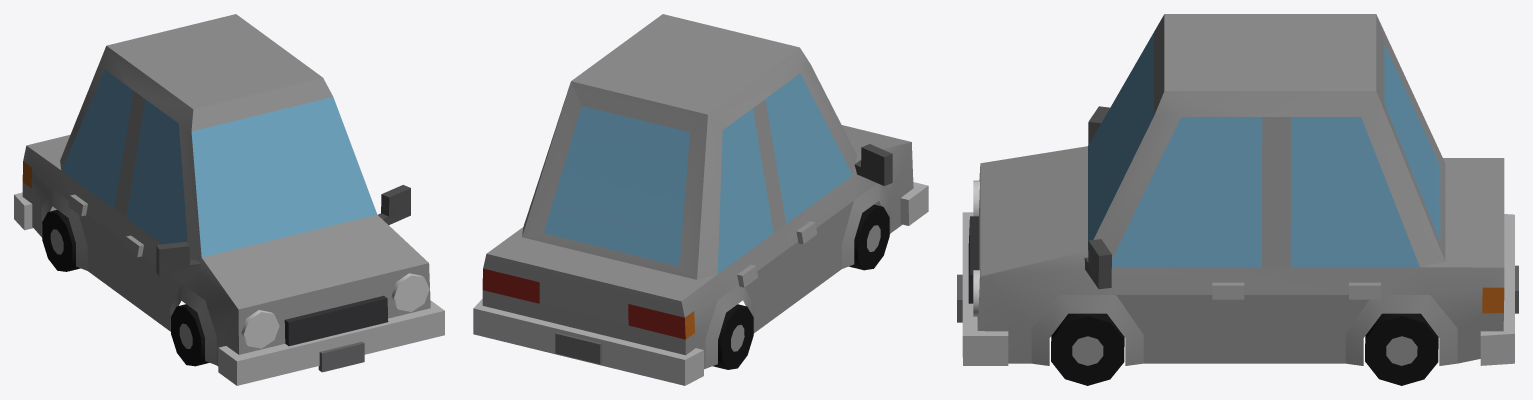
File: Car_03_white.fbx
The picture shows the model from 3 angles, left to right: view 1: azimuth 30°, elevation 25°; view 2: azimuth 150°, elevation 25°; view 3: azimuth 270°, elevation 25°; orthographic projection. The views are drawn at different scales.
Visible parts, largest first — view 1: Car_03_white; view 2: Car_03_white; view 3: Car_03_white.
Part boxes in pixels (box(x1,y1,x2,y2)): Car_03_white: box(14, 14, 444, 385); Car_03_white: box(473, 14, 928, 385); Car_03_white: box(957, 14, 1518, 385).
Size of the model in its own units: 57.9 by 49.04 by 91.82.
